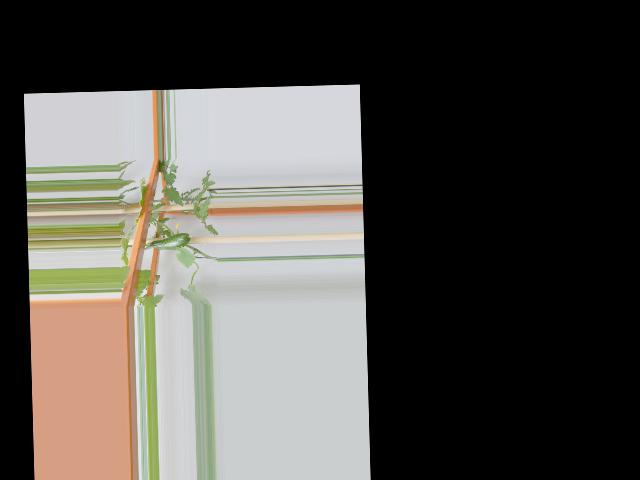cucumber: (151, 232, 194, 250)
